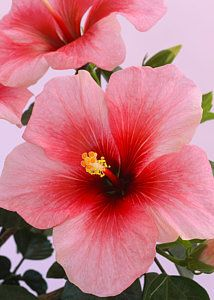Hibiscus: (3, 65, 212, 293), (4, 1, 168, 83)
